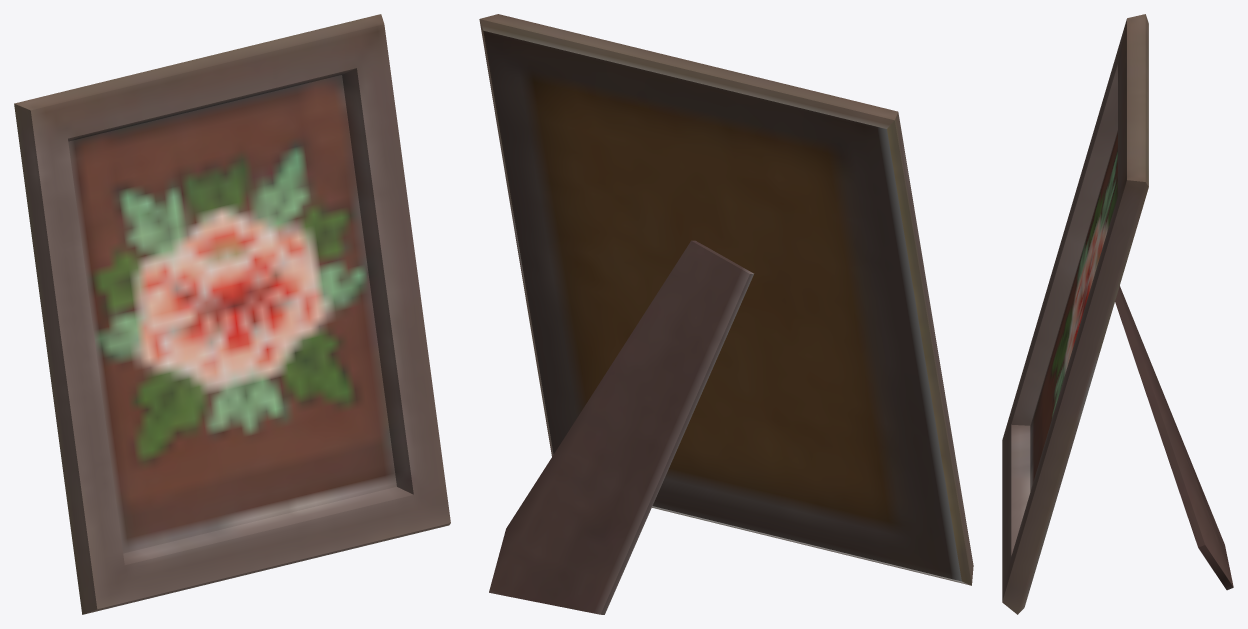
Rendered from Painting_Stand_A.FBX.
The picture shows the model from 3 angles, left to right: view 1: azimuth 30°, elevation 25°; view 2: azimuth 150°, elevation 25°; view 3: azimuth 270°, elevation 25°; orthographic projection. The views are drawn at different scales.
Parts seen in each view (by area): view 1: Painting_Stand_A; view 2: Painting_Stand_A; view 3: Painting_Stand_A.
Part boxes in pixels (box(x1,y1,x2,y2)): Painting_Stand_A: box(14, 14, 450, 614); Painting_Stand_A: box(479, 14, 973, 614); Painting_Stand_A: box(1002, 14, 1233, 614).
Size of the model in its own units: 17.28 by 20.79 by 10.06.
